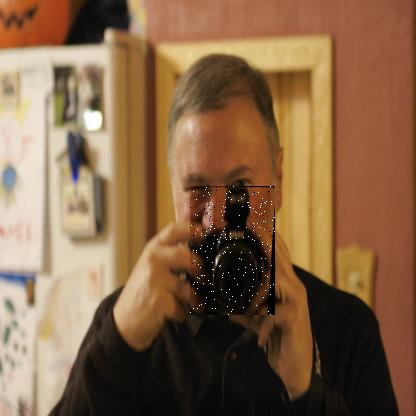Camera: (191, 187, 277, 317)
